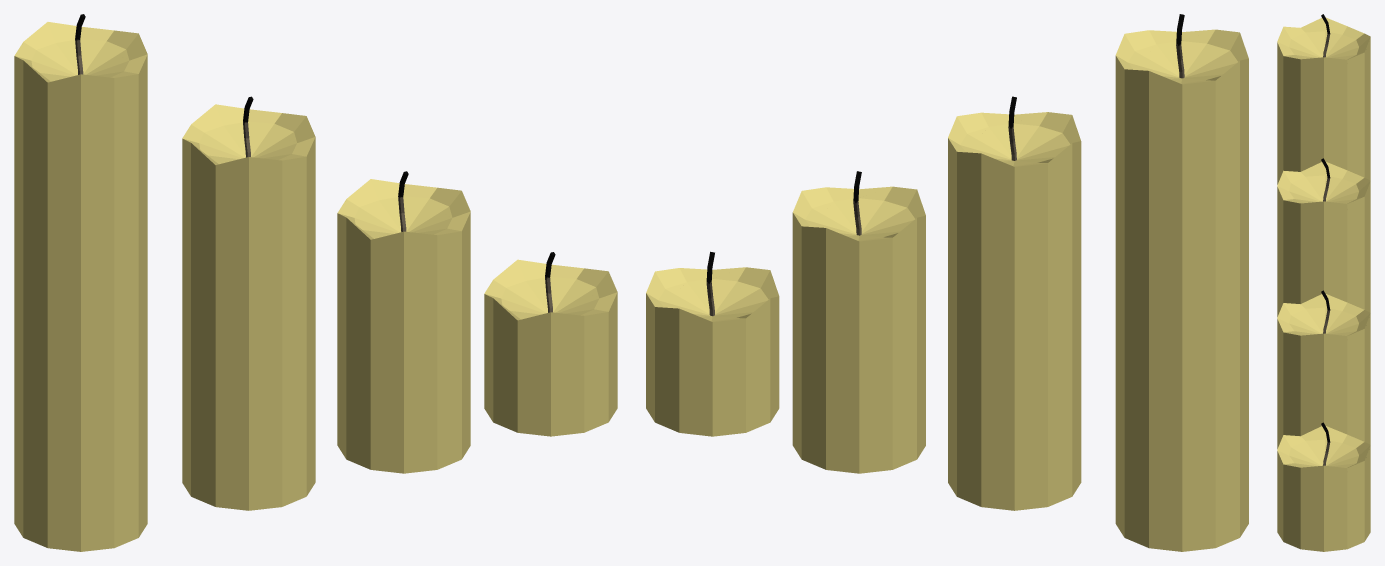
The model's file is Candle.fbx.
The picture shows the model from 3 angles, left to right: view 1: azimuth 30°, elevation 25°; view 2: azimuth 150°, elevation 25°; view 3: azimuth 270°, elevation 25°; orthographic projection. The views are drawn at different scales.
Parts seen in each view (by area): view 1: Cylinder, Cylinder.001, Cylinder.002, Cylinder.003; view 2: Cylinder, Cylinder.001, Cylinder.002, Cylinder.003; view 3: Cylinder, Cylinder.001, Cylinder.002, Cylinder.003.
Boxes of the visible parts, bbox=[...] form: Cylinder: bbox=[14, 14, 147, 551]; Cylinder.001: bbox=[182, 96, 315, 510]; Cylinder.002: bbox=[337, 171, 470, 473]; Cylinder.003: bbox=[484, 252, 617, 436]; Cylinder: bbox=[1115, 14, 1248, 551]; Cylinder.001: bbox=[948, 96, 1081, 510]; Cylinder.002: bbox=[792, 171, 925, 473]; Cylinder.003: bbox=[646, 251, 779, 436]; Cylinder: bbox=[1277, 14, 1370, 184]; Cylinder.001: bbox=[1277, 158, 1370, 316]; Cylinder.002: bbox=[1277, 290, 1370, 448]; Cylinder.003: bbox=[1277, 422, 1370, 551].
Bounding box in the file's own units: 71.7 × 59.69 × 14.15.
